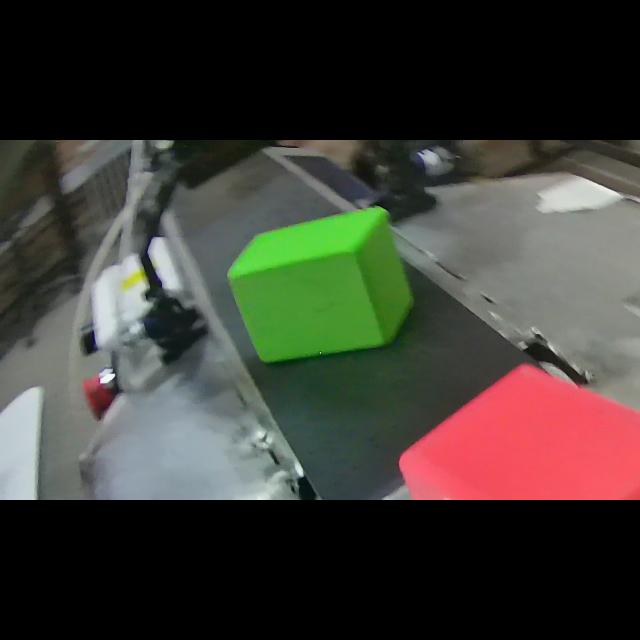greenBox: (224, 202, 422, 374)
redBox: (392, 360, 640, 500)
